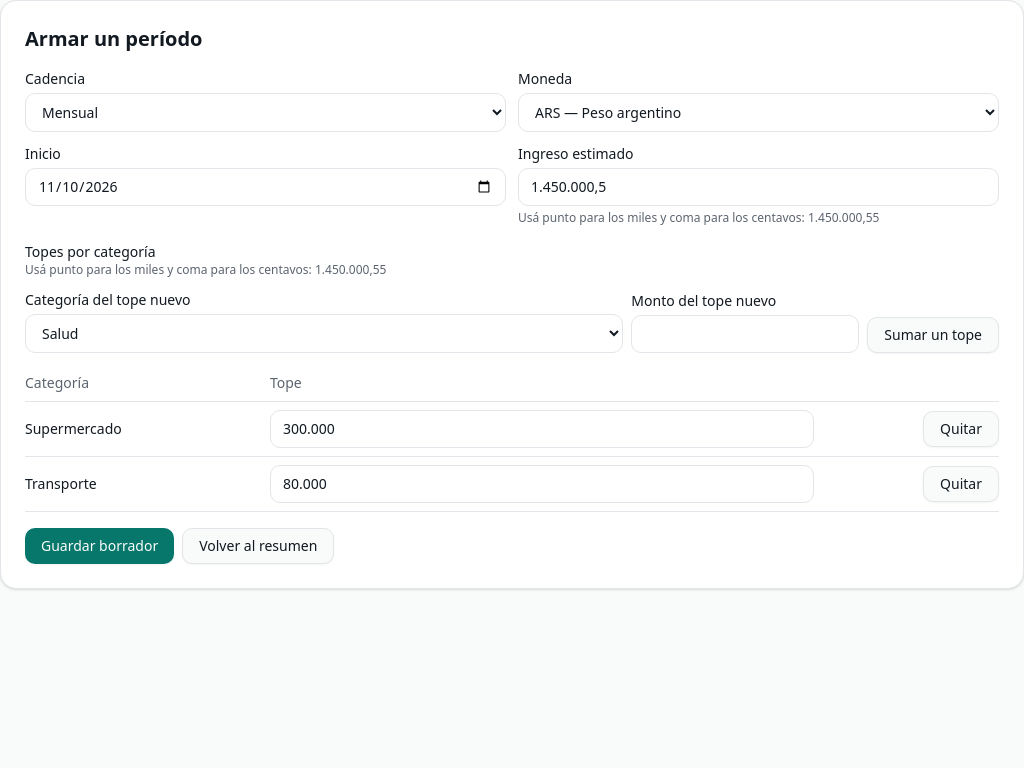
Test: case C1-28: saving sends the amounts as text with their cents
Replace the text in the field labelled "Ingreso estimado" with "1450000,55" at x=758, y=187, box [518, 168, 999, 206]
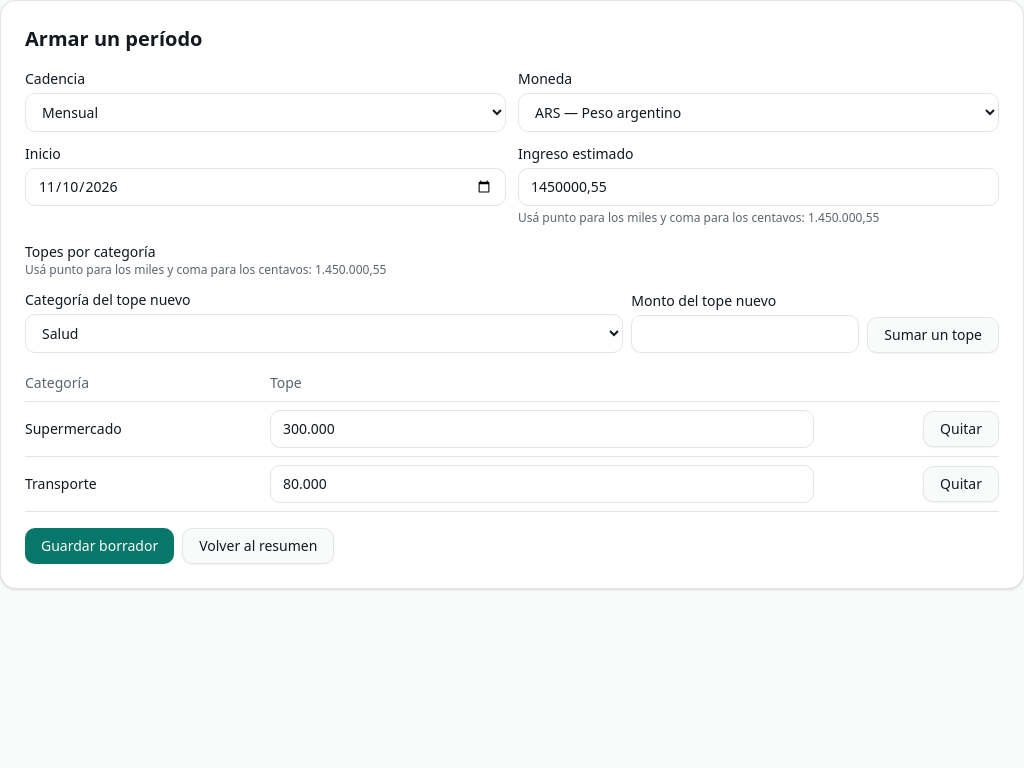
Replace the text in the field named "Monto del tope 1" with "320.000,10" at x=542, y=429, box [270, 410, 814, 448]
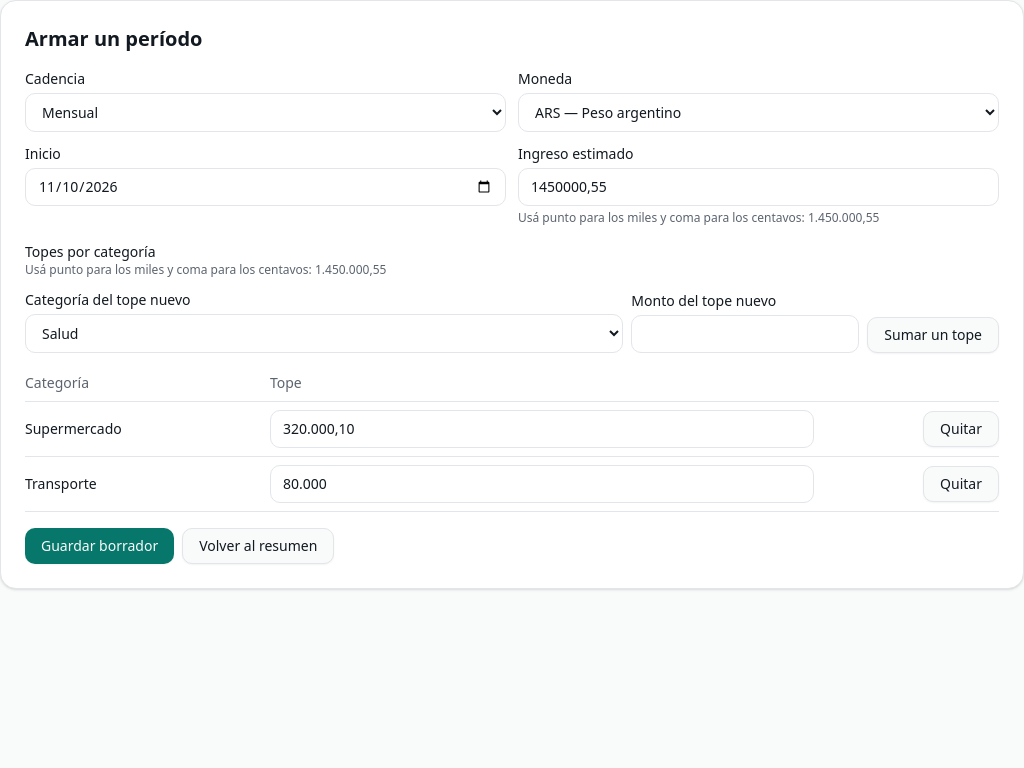
Click the button "Guardar borrador" at x=100, y=546, box [25, 528, 174, 564]
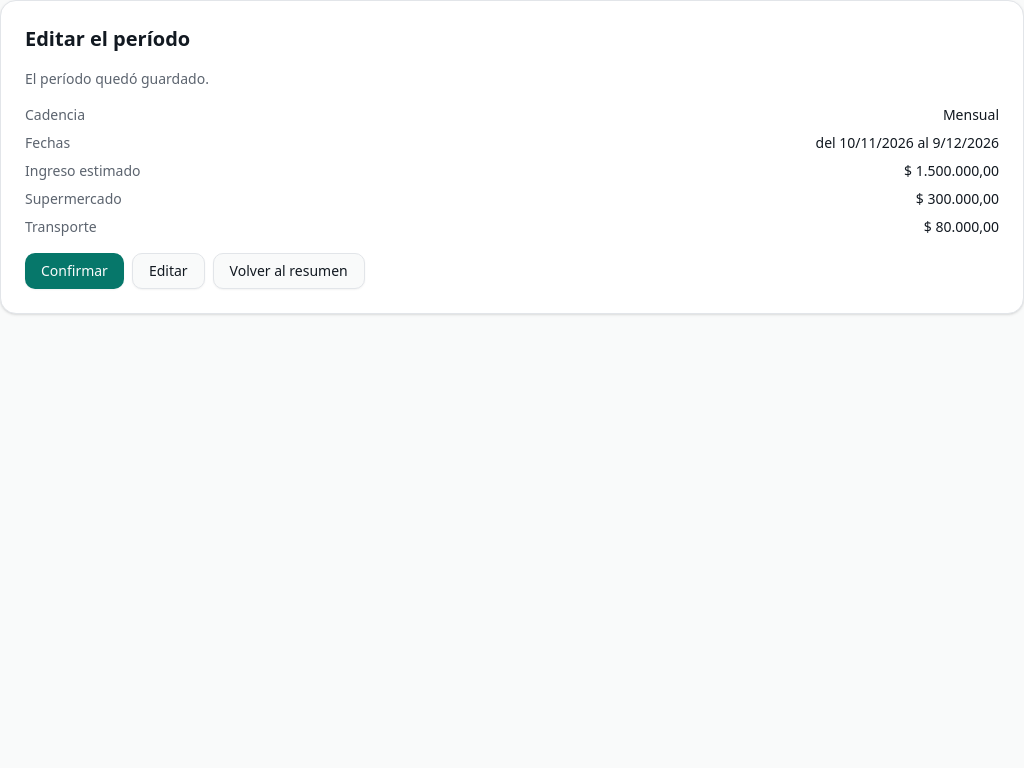
Expected: the text "El período quedó guardado." is shown, [25, 69, 209, 88]
